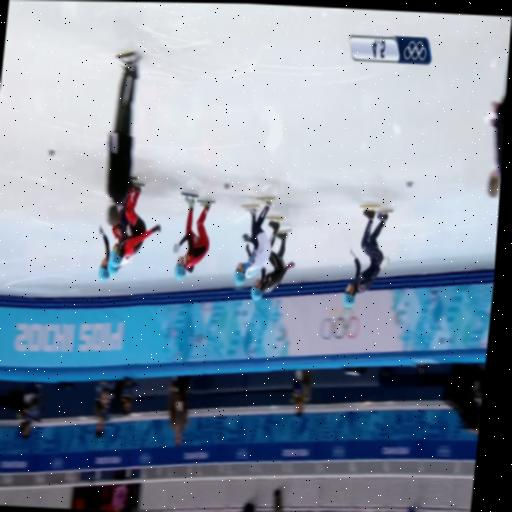Skater: (343, 207, 389, 306), (109, 183, 161, 265), (251, 219, 294, 299), (174, 194, 212, 278), (235, 198, 271, 285), (99, 226, 132, 280)
